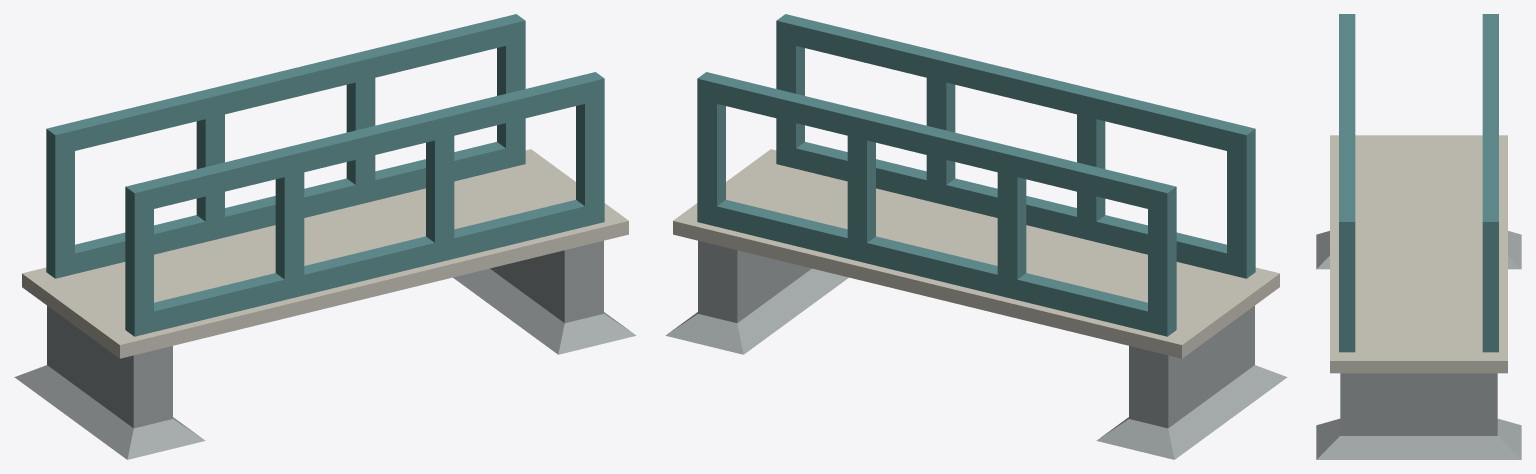
3 views of the same model, side by side, from view 1: azimuth 30°, elevation 25°; view 2: azimuth 150°, elevation 25°; view 3: azimuth 270°, elevation 25° (orthographic). The views are drawn at different scales.
Parts seen in each view (by area): view 1: WholeThreeOpeningsRectangularFrame_-1, WholeThreeOpeningsRectangularFrame_1, WholeContinuousStraightDeck, WholeFootAndFullWidthTerminalPier_-1, WholeFootAndFullWidthTerminalPier_1; view 2: WholeThreeOpeningsRectangularFrame_1, WholeThreeOpeningsRectangularFrame_-1, WholeContinuousStraightDeck, WholeFootAndFullWidthTerminalPier_-1, WholeFootAndFullWidthTerminalPier_1; view 3: WholeContinuousStraightDeck, WholeFootAndFullWidthTerminalPier_1, WholeThreeOpeningsRectangularFrame_-1, WholeThreeOpeningsRectangularFrame_1, WholeFootAndFullWidthTerminalPier_-1.
Part boxes in pixels (x1,y1,x2,y2): WholeThreeOpeningsRectangularFrame_-1: [125, 72, 604, 336]; WholeThreeOpeningsRectangularFrame_1: [46, 14, 525, 278]; WholeContinuousStraightDeck: [22, 149, 628, 358]; WholeFootAndFullWidthTerminalPier_-1: [14, 306, 205, 459]; WholeFootAndFullWidthTerminalPier_1: [453, 240, 636, 354]; WholeThreeOpeningsRectangularFrame_1: [697, 72, 1176, 336]; WholeThreeOpeningsRectangularFrame_-1: [776, 14, 1255, 278]; WholeContinuousStraightDeck: [673, 149, 1279, 358]; WholeFootAndFullWidthTerminalPier_-1: [1096, 306, 1287, 459]; WholeFootAndFullWidthTerminalPier_1: [665, 240, 848, 354]; WholeContinuousStraightDeck: [1330, 135, 1507, 373]; WholeFootAndFullWidthTerminalPier_1: [1316, 373, 1521, 459]; WholeThreeOpeningsRectangularFrame_-1: [1339, 14, 1355, 352]; WholeThreeOpeningsRectangularFrame_1: [1482, 14, 1498, 352]; WholeFootAndFullWidthTerminalPier_-1: [1316, 231, 1521, 269].
Bounding box in the file's own units: 7.8 × 3.7 × 3.
